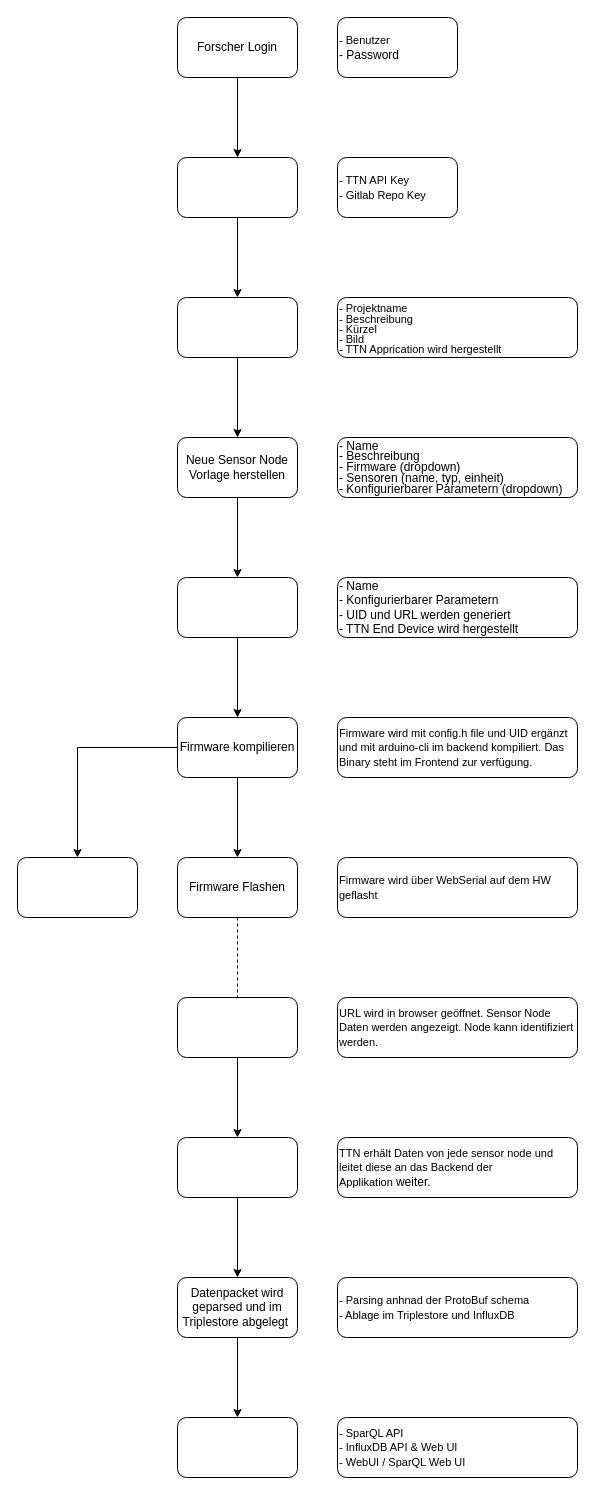
Some shapes in this 595 by 1495 pixel diagram are drawn without their labels. The shapes that lost their labels are listed below. From the top down, each one's centre as x and y in pixels, then its label:
At point (237, 187): "Erste aufstellen".
At point (237, 327): "Neue Projekt herstellen".
At point (237, 607): "Neue Sensor Node herstellen".
At point (77, 887): "Firmware als .ino Datei Herunterladen".
At point (237, 1027): "Sensor Node NFC/QR Code mit Handy Scannen".
At point (237, 1167): "Sensor Node ist Online und Daten werden an TTN übermittelt".
At point (237, 1447): "Daten sind über SparQL, InfluxDB und WebUI verfügbar".
